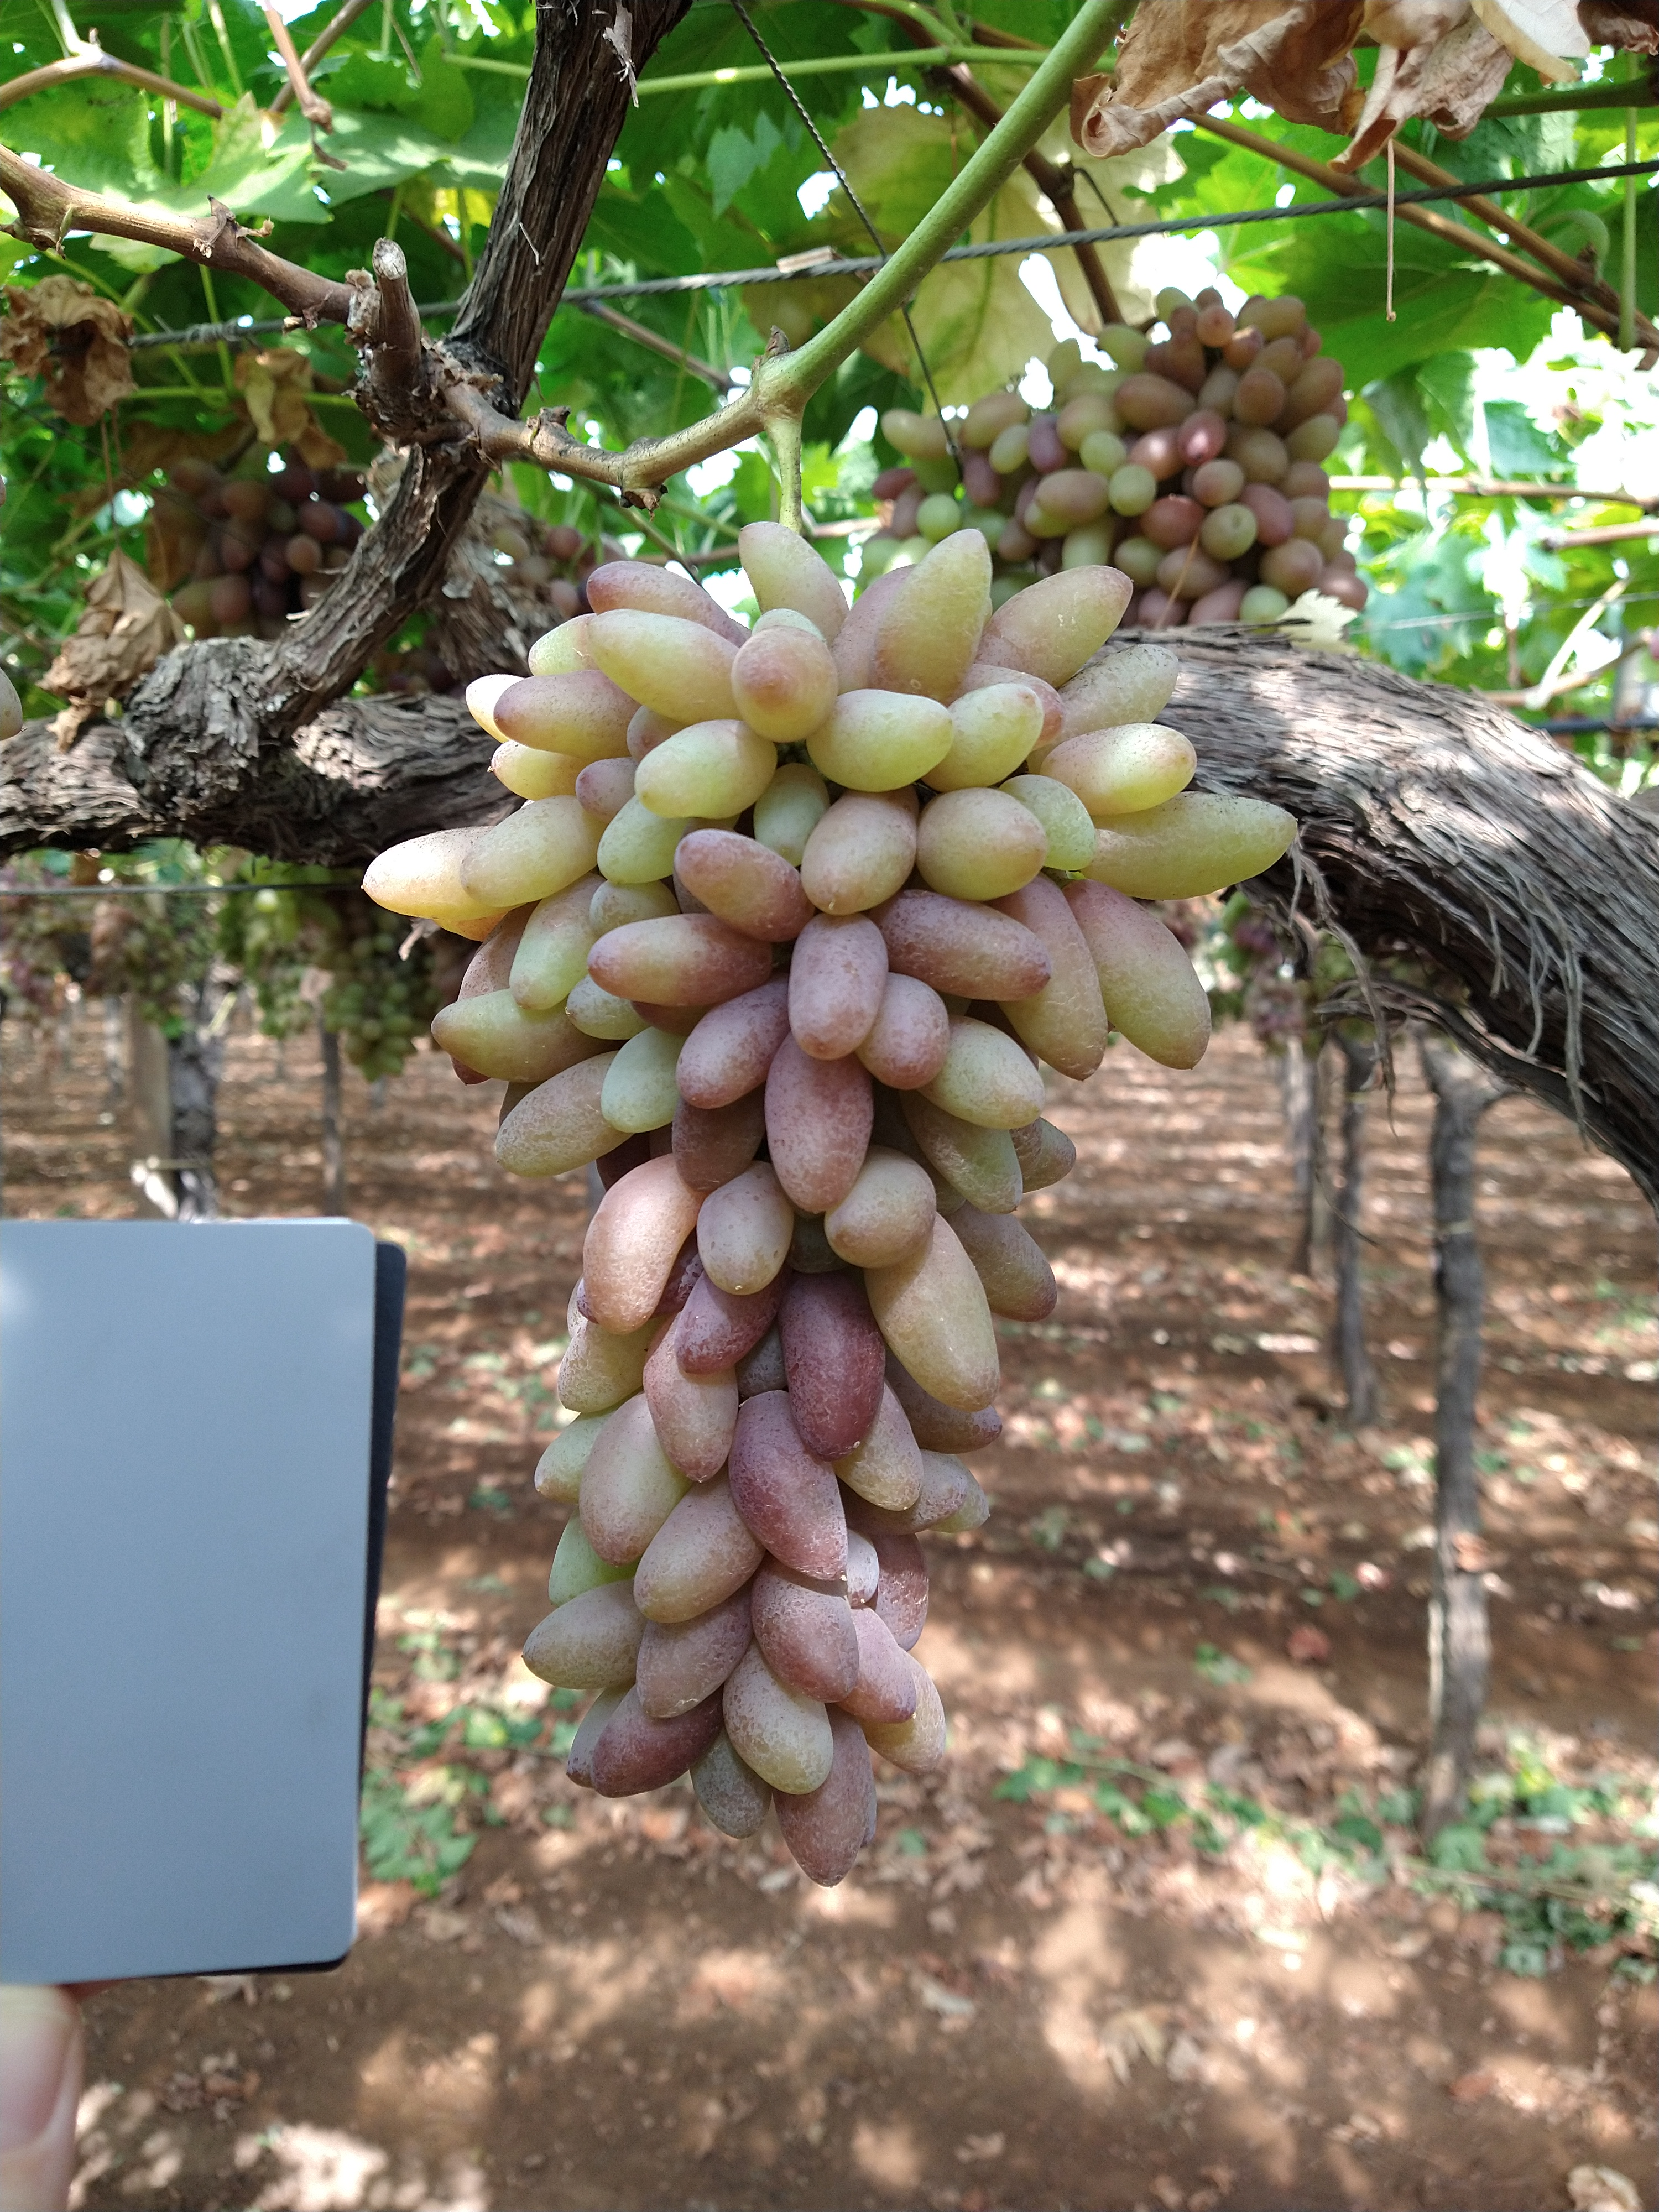acino: (723, 1392, 849, 1585), (866, 1244, 1002, 1413), (1101, 791, 1302, 897), (1000, 887, 1110, 1080), (779, 1271, 889, 1461), (870, 528, 993, 690), (765, 1036, 877, 1214), (633, 1484, 767, 1627), (579, 1155, 683, 1338), (579, 1392, 687, 1568), (892, 890, 1054, 1003), (586, 608, 737, 728), (587, 911, 772, 1008), (1108, 899, 1213, 1069), (993, 563, 1136, 683), (803, 688, 960, 794), (457, 798, 596, 909), (674, 826, 805, 942), (917, 786, 1049, 900), (633, 718, 781, 820), (819, 1144, 939, 1270), (634, 1595, 751, 1723), (1040, 723, 1201, 815), (493, 1057, 615, 1177), (720, 1667, 835, 1794), (788, 918, 890, 1059), (362, 822, 511, 918), (800, 796, 917, 916), (695, 1160, 798, 1296), (753, 1576, 861, 1703), (641, 1341, 737, 1484), (728, 624, 840, 745), (589, 1693, 716, 1799), (523, 1580, 643, 1689), (674, 984, 777, 1111), (432, 991, 573, 1083), (737, 523, 852, 634), (939, 1015, 1049, 1129), (772, 1766, 870, 1888), (856, 968, 950, 1092), (835, 1386, 927, 1512), (955, 1216, 1058, 1324), (674, 1277, 781, 1376), (945, 683, 1044, 787), (870, 1649, 946, 1780), (491, 671, 603, 759), (669, 1092, 765, 1193), (1063, 643, 1185, 721), (1002, 773, 1100, 871), (690, 1724, 769, 1841), (596, 1024, 678, 1136), (509, 897, 586, 1008), (554, 1320, 645, 1414), (753, 763, 835, 864), (857, 1597, 920, 1724), (572, 557, 714, 613), (939, 1129, 1025, 1216), (598, 792, 673, 887), (488, 740, 572, 799), (462, 667, 519, 742), (533, 1418, 579, 1508), (573, 758, 633, 820)
